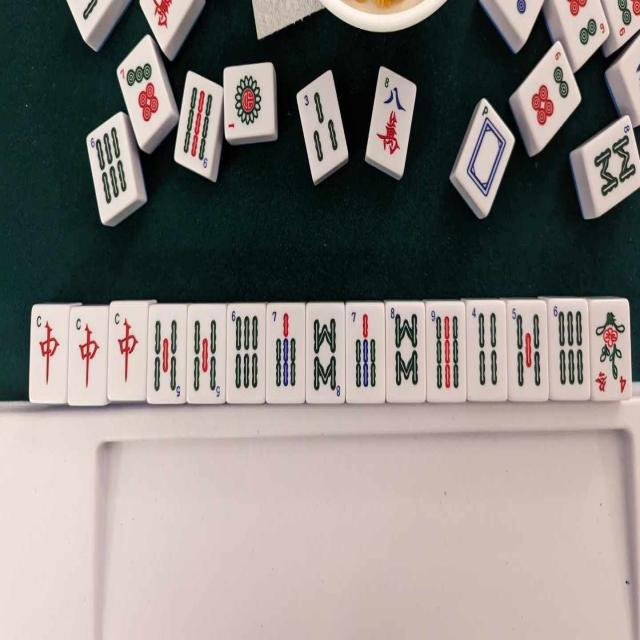bs4: (591, 302, 628, 396)
hdr: (32, 306, 64, 401), (72, 312, 104, 402), (111, 306, 142, 396)
sb4: (468, 302, 504, 396)
sb5: (508, 303, 546, 398), (190, 306, 223, 399), (150, 306, 182, 401)
sb6: (228, 304, 264, 400), (550, 301, 585, 397)
sb7: (347, 304, 384, 402), (267, 306, 302, 400)
sb8: (386, 302, 424, 400), (306, 305, 344, 401)
sb9: (427, 303, 465, 399)
